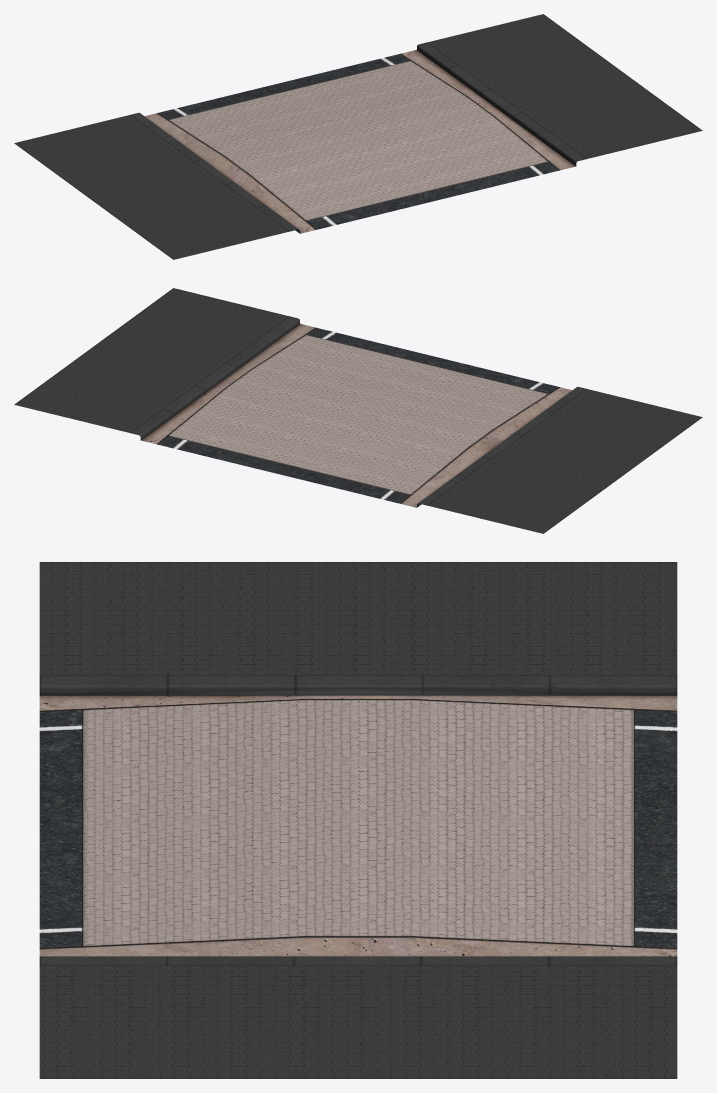
The model's file is or_city_bump1.fbx.
3 renders of one model, top to bottom at view 1: azimuth 30°, elevation 25°; view 2: azimuth 150°, elevation 25°; view 3: azimuth 270°, elevation 25°, orthographic. The views are drawn at different scales.
Parts seen in each view (by area): view 1: obj0; view 2: obj0; view 3: obj0.
Boxes of the visible parts, <box> form: obj0: <box>14,14,702,259</box>; obj0: <box>14,288,702,533</box>; obj0: <box>39,562,677,1078</box>.
Bounding box in the file's own units: 29.21 × 0.3175 × 15.24.
